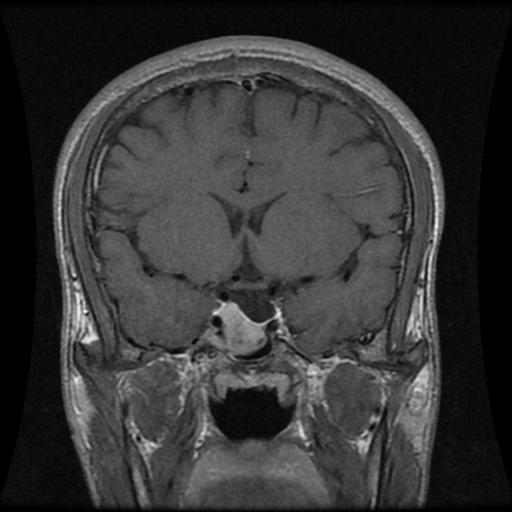Pituirity_tumour: (210, 302, 262, 349)
